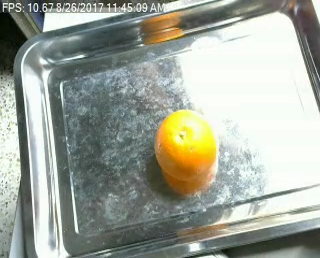Orange: (153, 109, 218, 181)
